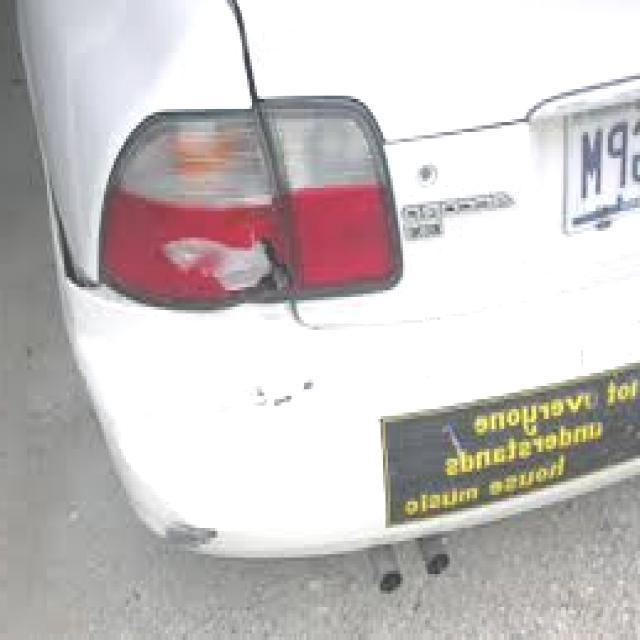minor: (127, 379, 324, 524)
moderate: (102, 117, 294, 307), (158, 524, 220, 555)
